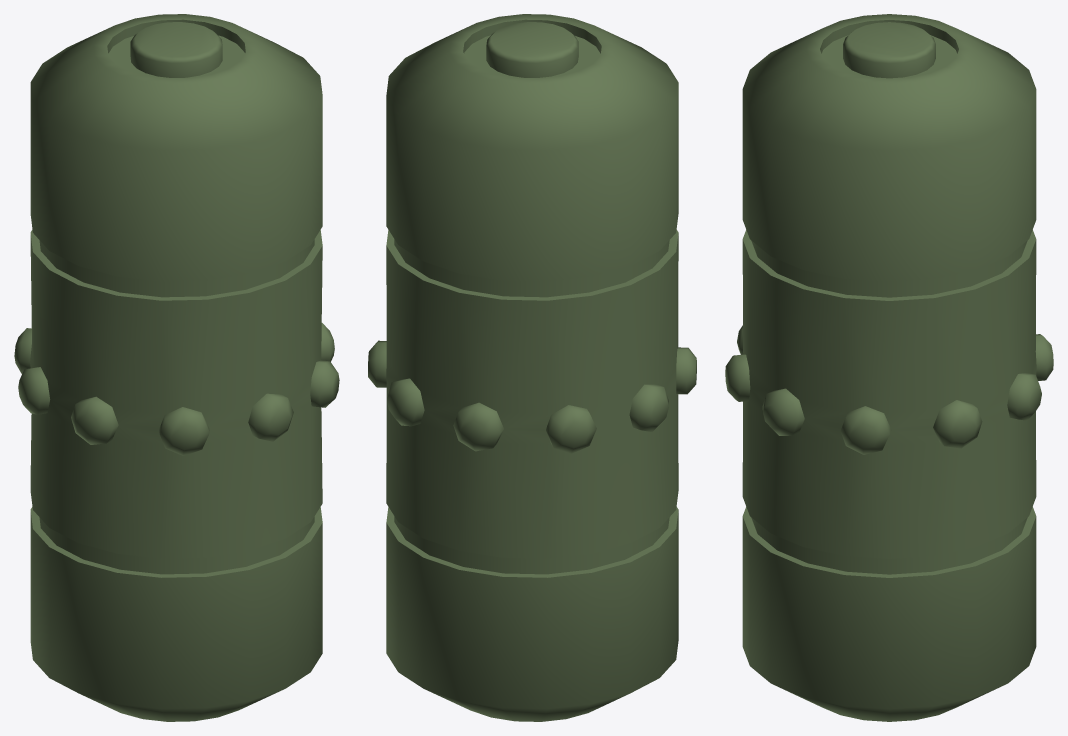
The picture shows the model from 3 angles, left to right: view 1: azimuth 30°, elevation 25°; view 2: azimuth 150°, elevation 25°; view 3: azimuth 270°, elevation 25°; orthographic projection.
Visible parts, largest first — view 1: Сapsule; view 2: Сapsule; view 3: Сapsule.
Part boxes in pixels (x1,y1,x2,y2): Сapsule: (14, 14, 339, 721); Сapsule: (368, 14, 696, 721); Сapsule: (725, 14, 1053, 721).
Size of the model in its own units: 149 by 330 by 150.
